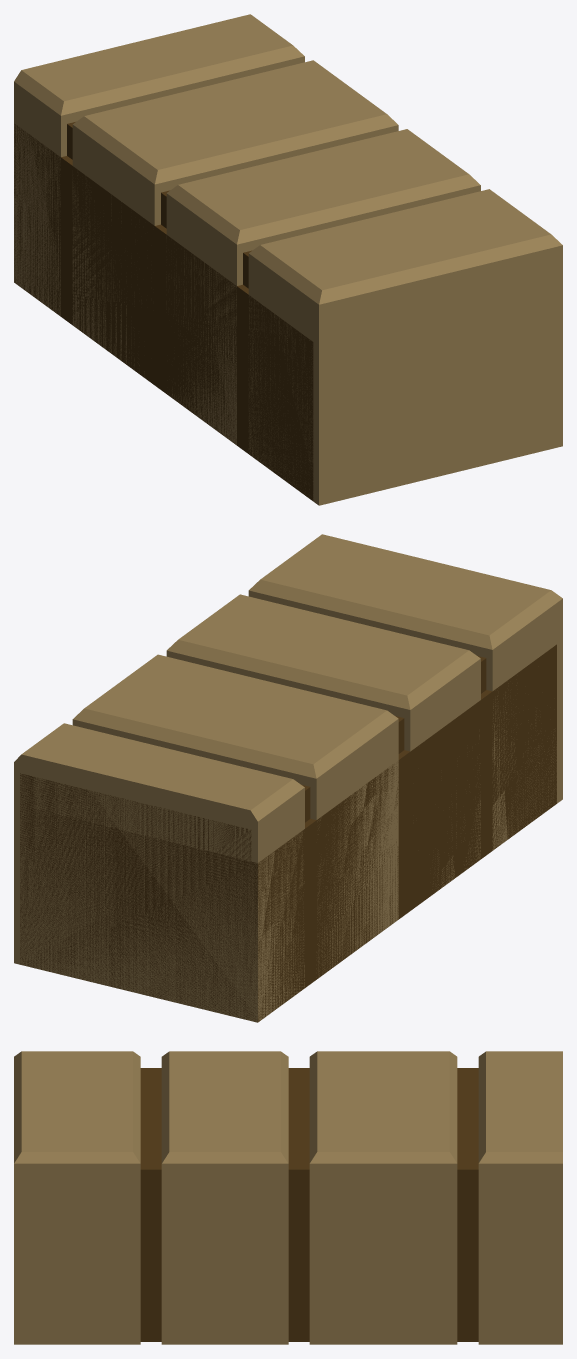
Rendered from newsha-197.glb.
3 views of the same model, one above another, from view 1: azimuth 30°, elevation 25°; view 2: azimuth 150°, elevation 25°; view 3: azimuth 270°, elevation 25° (orthographic). The views are drawn at different scales.
Visible parts, largest first — view 1: newsha-197; view 2: newsha-197; view 3: newsha-197.
Boxes of the visible parts, x1,y1,x2,y2 form: newsha-197: [14, 14, 562, 505]; newsha-197: [14, 534, 562, 1022]; newsha-197: [14, 1051, 562, 1344].
Size of the model in its own units: 1 by 0.825 by 2.17.
